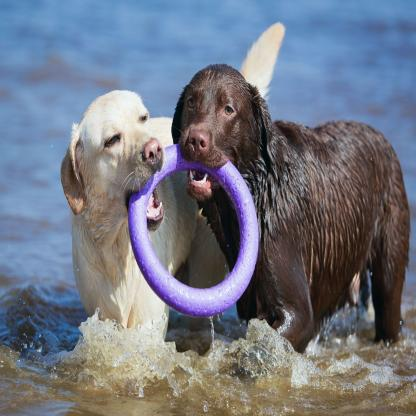Labarador Retriever: (62, 21, 283, 344), (172, 65, 408, 346)
